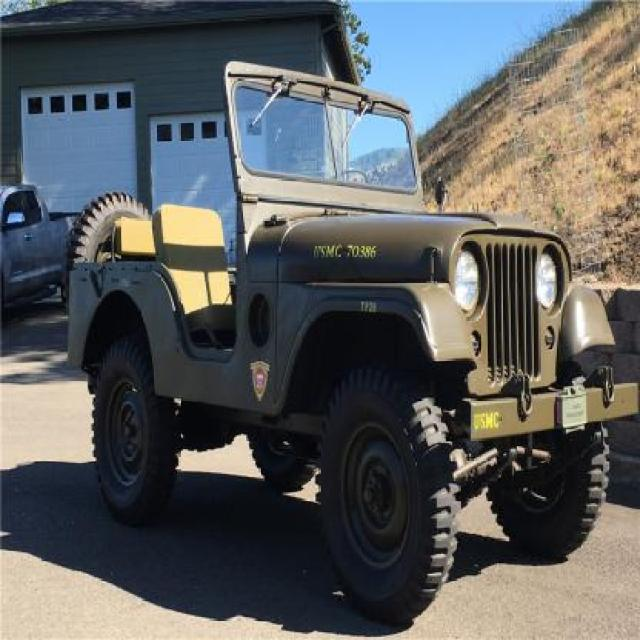Jeep: (67, 58, 640, 619)
